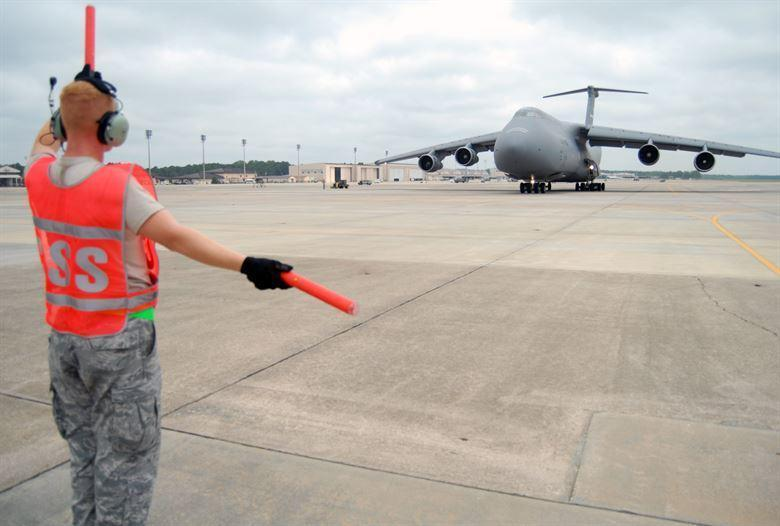vest: (25, 152, 163, 346)
